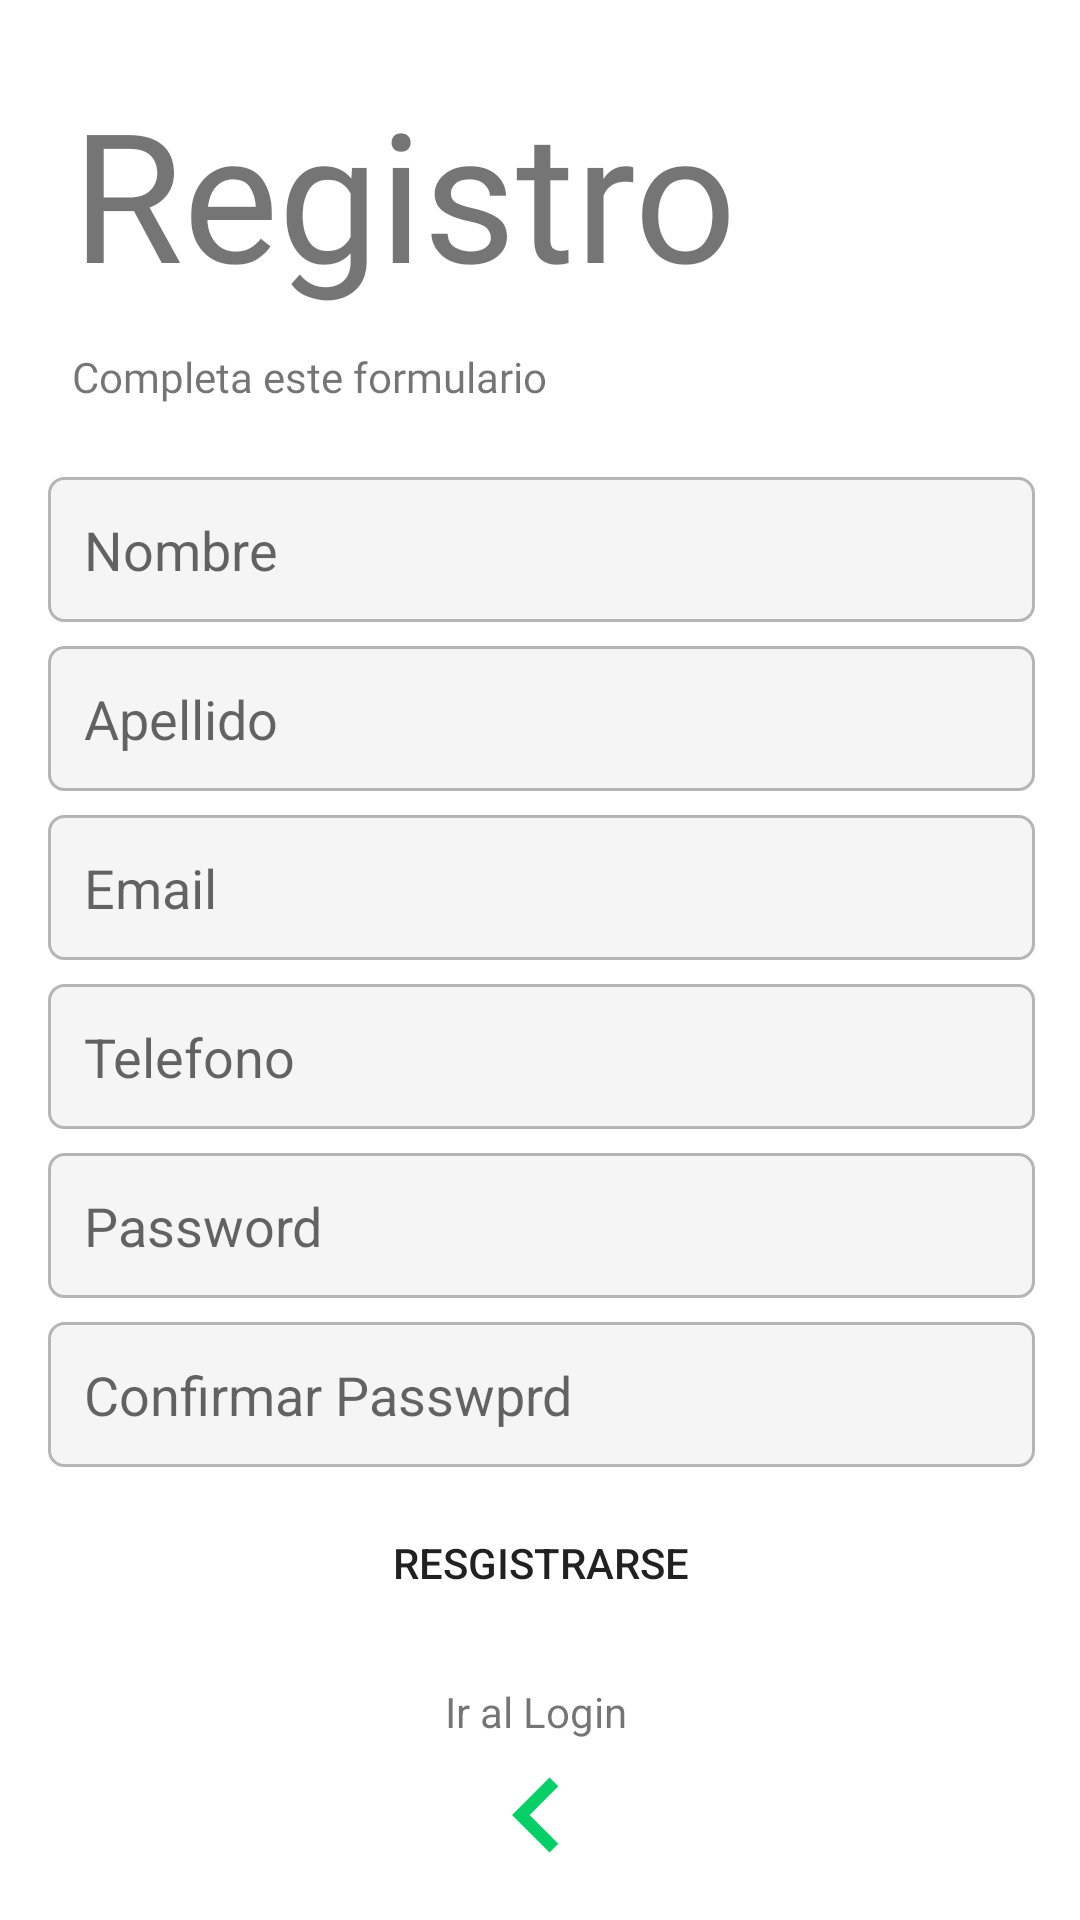

Icons on this 1080x1920 Android screen, each with its box as (x1, y1, x2, y2):
arrow left: (512, 1777, 558, 1853)
